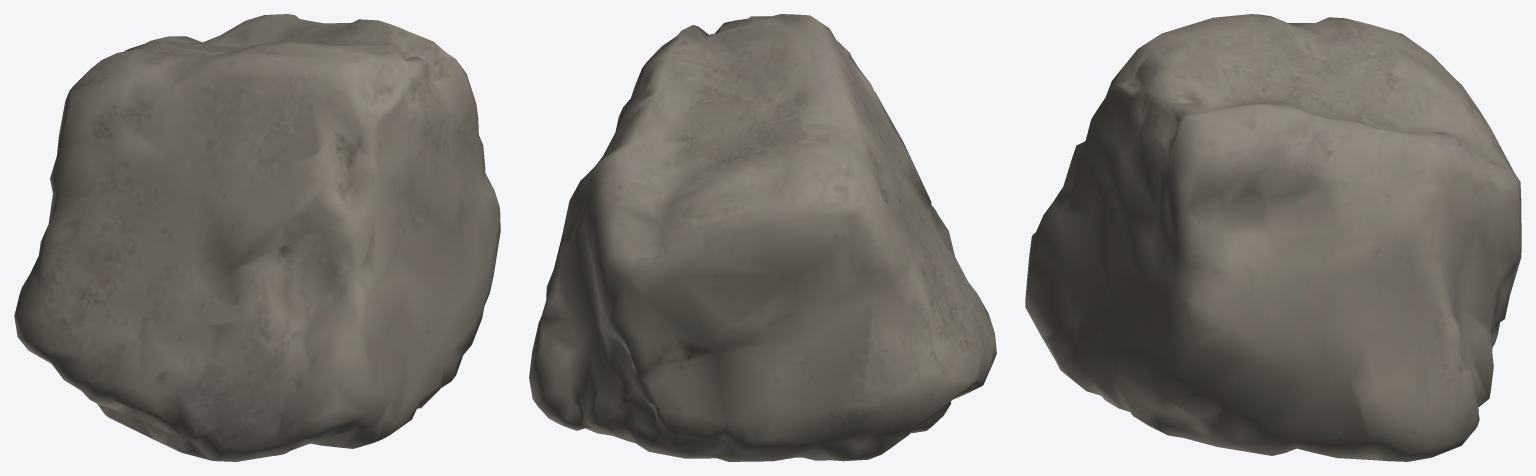
The model's file is moon_rock_02.glb.
The picture shows the model from 3 angles, left to right: view 1: azimuth 30°, elevation 25°; view 2: azimuth 150°, elevation 25°; view 3: azimuth 270°, elevation 25°; orthographic projection. The views are drawn at different scales.
Visible parts, largest first — view 1: moon_rock_02_LOD0; view 2: moon_rock_02_LOD0; view 3: moon_rock_02_LOD0.
Boxes of the visible parts, x1=… form: moon_rock_02_LOD0: x1=14, y1=14, x2=500, y2=461; moon_rock_02_LOD0: x1=529, y1=14, x2=996, y2=461; moon_rock_02_LOD0: x1=1025, y1=14, x2=1521, y2=461.
Size of the model in its own units: 0.2465 by 0.2019 by 0.2513.
1 material, 1 textured.
